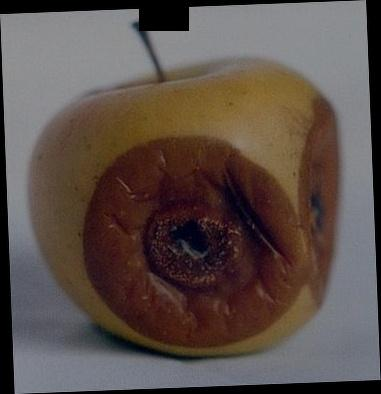rotten apple: (22, 62, 358, 365)
